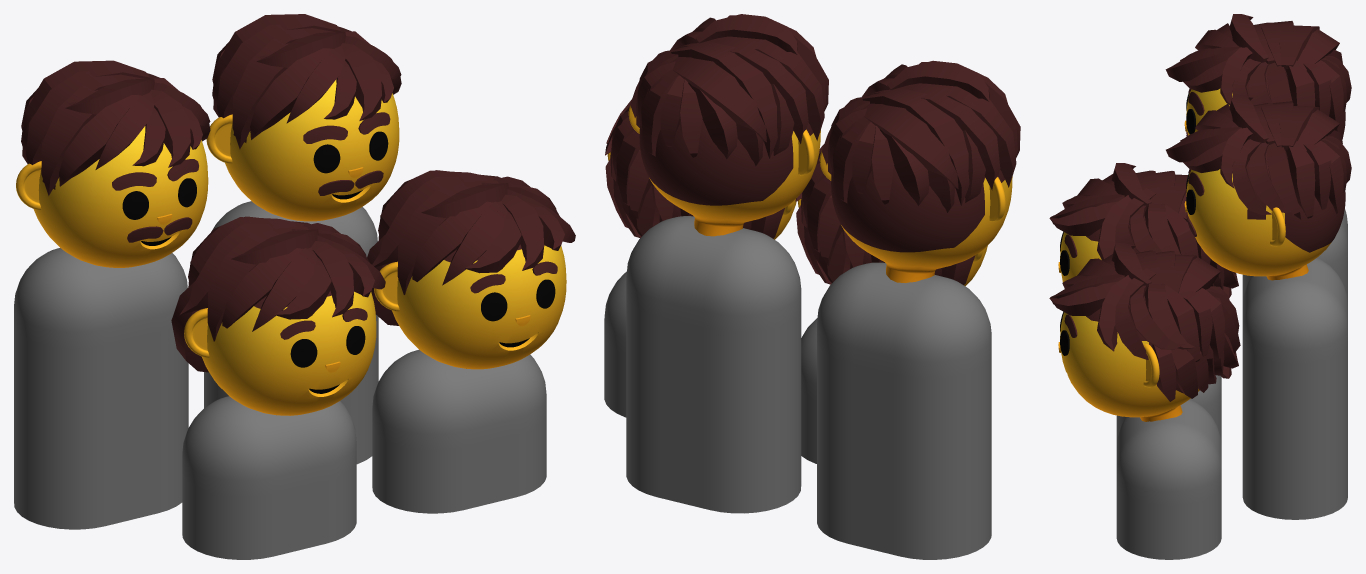
The model's file is family_man_man_boy_boy.glb.
The picture shows the model from 3 angles, left to right: view 1: azimuth 30°, elevation 25°; view 2: azimuth 150°, elevation 25°; view 3: azimuth 270°, elevation 25°; orthographic projection. The views are drawn at different scales.
Visible parts, largest first — view 1: Sphere.298, Sphere.297, Sphere.300, Cube.4671, Cube.4746, Cube.4725, Cube.4703, Roundcube.357, Roundcube.360, Roundcube.359, Roundcube.358, Sphere.299 (+14 smaller); view 2: Sphere.299, Sphere.298, Cube.4725, Cube.4703, Roundcube.358, Roundcube.359, Cube.4746, Cube.4671, Sphere.300, Sphere.297, Cylinder.242, Cylinder.241; view 3: Sphere.299, Cube.4746, Sphere.300, Cube.4725, Cube.4703, Cube.4671, Roundcube.359, Roundcube.360, Sphere.298, Roundcube.357, Sphere.297, Roundcube.358 (+2 smaller).
Part boxes in pixels (bbox=[...]): Sphere.298: bbox=[14, 248, 188, 529]; Sphere.297: bbox=[182, 396, 356, 559]; Sphere.300: bbox=[372, 350, 546, 513]; Cube.4671: bbox=[171, 216, 385, 372]; Cube.4746: bbox=[367, 170, 575, 325]; Cube.4725: bbox=[212, 14, 401, 149]; Cube.4703: bbox=[21, 60, 210, 195]; Roundcube.357: bbox=[202, 290, 376, 415]; Roundcube.360: bbox=[392, 244, 566, 369]; Roundcube.359: bbox=[225, 79, 399, 221]; Roundcube.358: bbox=[33, 126, 208, 267]; Sphere.299: bbox=[204, 201, 378, 464]; Sphere.299: bbox=[626, 216, 801, 513]; Sphere.298: bbox=[817, 262, 991, 559]; Cube.4725: bbox=[630, 14, 828, 166]; Cube.4703: bbox=[822, 60, 1020, 212]; Roundcube.358: bbox=[831, 166, 1012, 282]; Roundcube.359: bbox=[639, 119, 820, 236]; Cube.4746: bbox=[605, 99, 784, 238]; Cube.4671: bbox=[795, 144, 975, 285]; Sphere.300: bbox=[604, 271, 626, 417]; Sphere.297: bbox=[801, 318, 817, 463]; Cylinder.242: bbox=[628, 105, 814, 175]; Cylinder.241: bbox=[819, 150, 1005, 221]; Sphere.299: bbox=[1242, 257, 1347, 519]; Cube.4746: bbox=[1049, 243, 1240, 401]; Sphere.300: bbox=[1116, 399, 1221, 559]; Cube.4725: bbox=[1166, 94, 1351, 219]; Cube.4703: bbox=[1165, 14, 1351, 131]; Cube.4671: bbox=[1049, 163, 1238, 298]; Roundcube.359: bbox=[1186, 139, 1345, 280]; Roundcube.360: bbox=[1060, 296, 1199, 421]; Sphere.298: bbox=[1242, 209, 1347, 304]; Roundcube.357: bbox=[1060, 216, 1145, 282]; Sphere.297: bbox=[1116, 375, 1221, 444]; Roundcube.358: bbox=[1186, 59, 1345, 139].
Size of the model in its own units: 2.45 by 2.2 by 1.59.
Materials: 1 (1 with a texture image).
